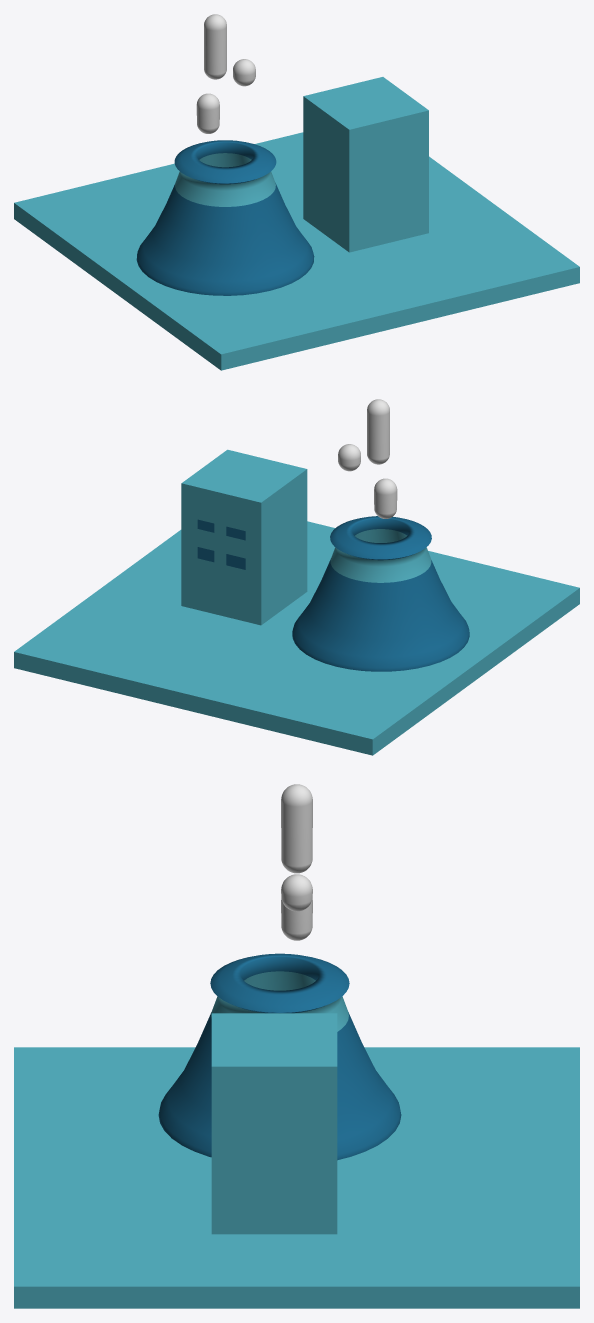
File: factory_building-6.gltf
3 renders of one model, top to bottom at view 1: azimuth 30°, elevation 25°; view 2: azimuth 150°, elevation 25°; view 3: azimuth 270°, elevation 25°, orthographic. The views are drawn at different scales.
Visible parts, largest first — view 1: pCube11, pCylinder8, pCube24, pSphere30, pSphere29, pSphere31; view 2: pCube11, pCylinder8, pCube24, pSphere30, pSphere29, pSphere31; view 3: pCube11, pCube24, pCylinder8, pSphere30, pSphere31, pSphere29.
Boxes of the visible parts, bbox=[...] form: pCube11: bbox=[14, 132, 579, 370]; pCylinder8: bbox=[136, 140, 314, 295]; pCube24: bbox=[303, 77, 428, 252]; pSphere30: bbox=[204, 14, 226, 79]; pSphere29: bbox=[196, 93, 219, 133]; pSphere31: bbox=[233, 59, 255, 86]; pCube11: bbox=[14, 521, 579, 755]; pCylinder8: bbox=[292, 516, 469, 671]; pCube24: bbox=[181, 449, 307, 625]; pSphere30: bbox=[367, 399, 389, 464]; pSphere29: bbox=[374, 478, 397, 518]; pSphere31: bbox=[338, 444, 360, 471]; pCube11: bbox=[14, 1047, 579, 1308]; pCube24: bbox=[211, 1013, 337, 1234]; pCylinder8: bbox=[158, 953, 401, 1160]; pSphere30: bbox=[281, 784, 312, 873]; pSphere31: bbox=[281, 874, 312, 911]; pSphere29: bbox=[281, 899, 312, 940].
Size of the model in its own units: 1.47 by 1 by 1.47.
